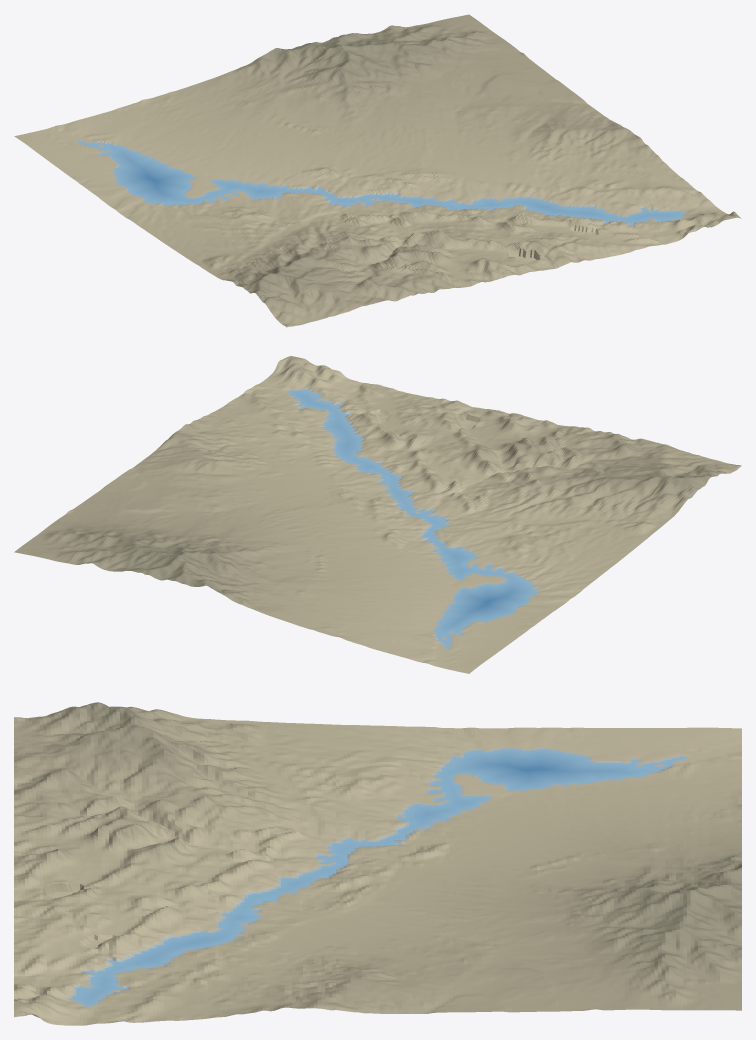
Rendered from lake_havasu_az.glb.
The picture shows the model from 3 angles, top to bottom: view 1: azimuth 30°, elevation 25°; view 2: azimuth 150°, elevation 25°; view 3: azimuth 270°, elevation 25°; orthographic projection. The views are drawn at different scales.
Visible parts, largest first — view 1: terrain, water; view 2: terrain, water; view 3: terrain, water.
Boxes of the visible parts, x1,y1,x2,y2 form: terrain: (14, 14, 741, 327); water: (78, 141, 684, 225); terrain: (14, 356, 741, 673); water: (289, 390, 537, 647); terrain: (14, 702, 741, 1025); water: (72, 749, 683, 1005).
Bounding box in the file's own units: 32582 × 2083 × 33826.
